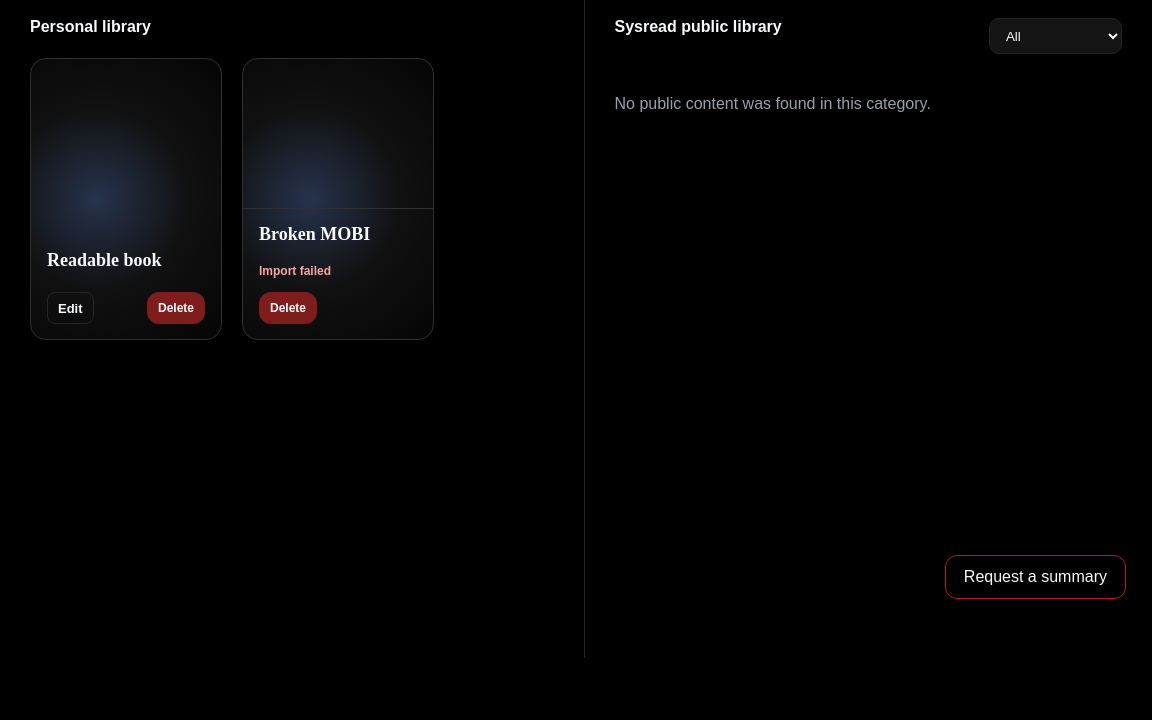
Test: library view › shows cover-level edit/delete actions and lets a failed import be removed
The width and height of the screenshot is (1152, 720).
Expected: the text "Import failed" is shown, [259, 264, 331, 278]
Click the button "Delete" below "Import failed" at [288, 308], box [259, 292, 317, 324]
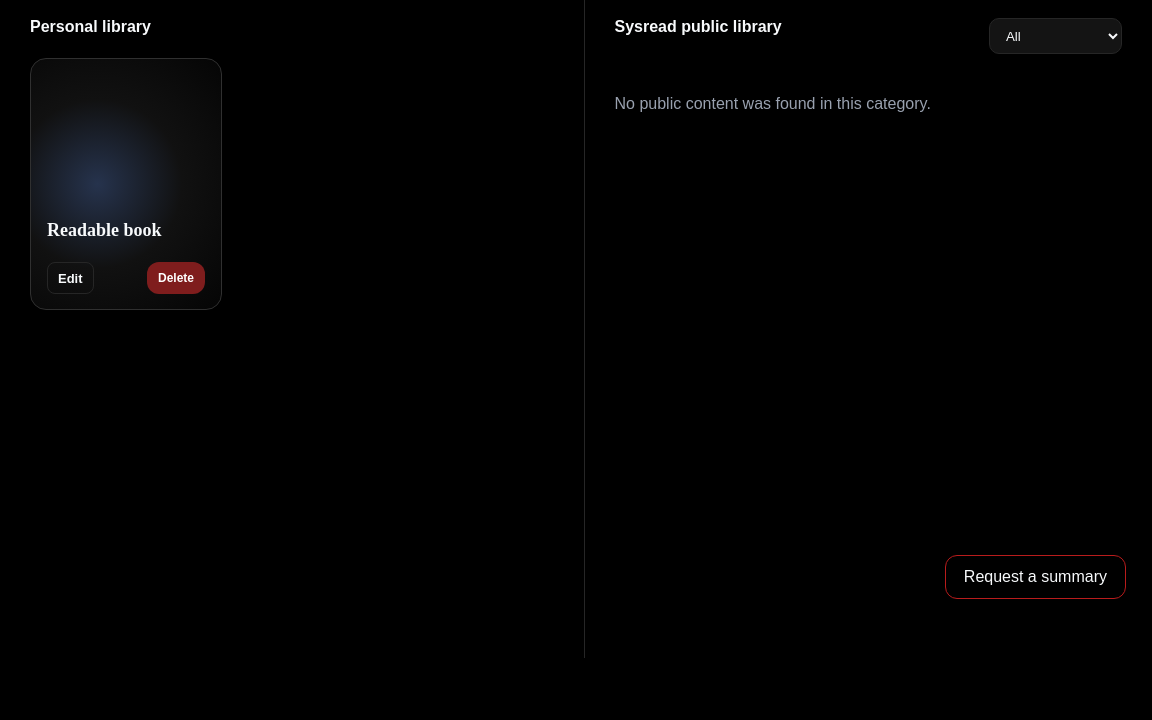
Expected: the heading "Broken MOBI" is gone
